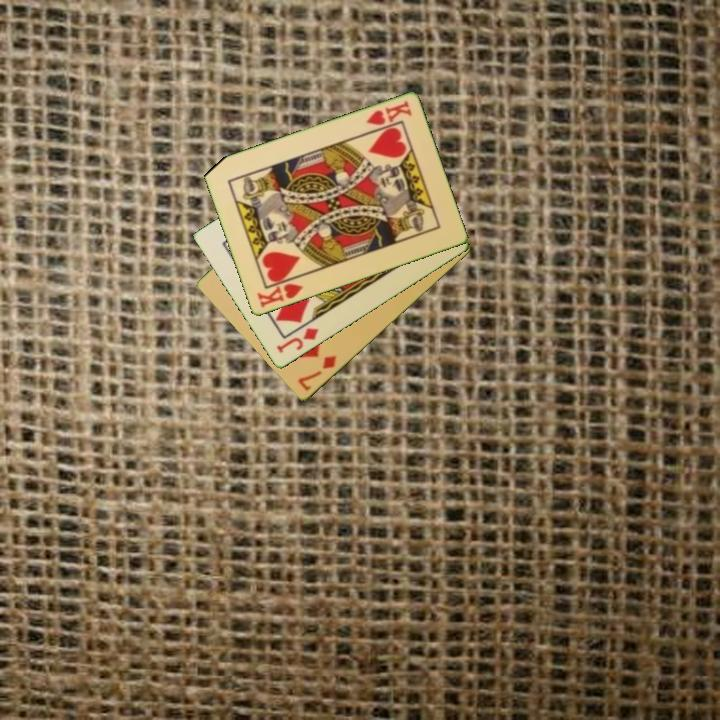7d: (294, 352, 339, 394)
Jd: (273, 324, 321, 357)
Kh: (253, 273, 306, 311), (362, 97, 415, 129)
